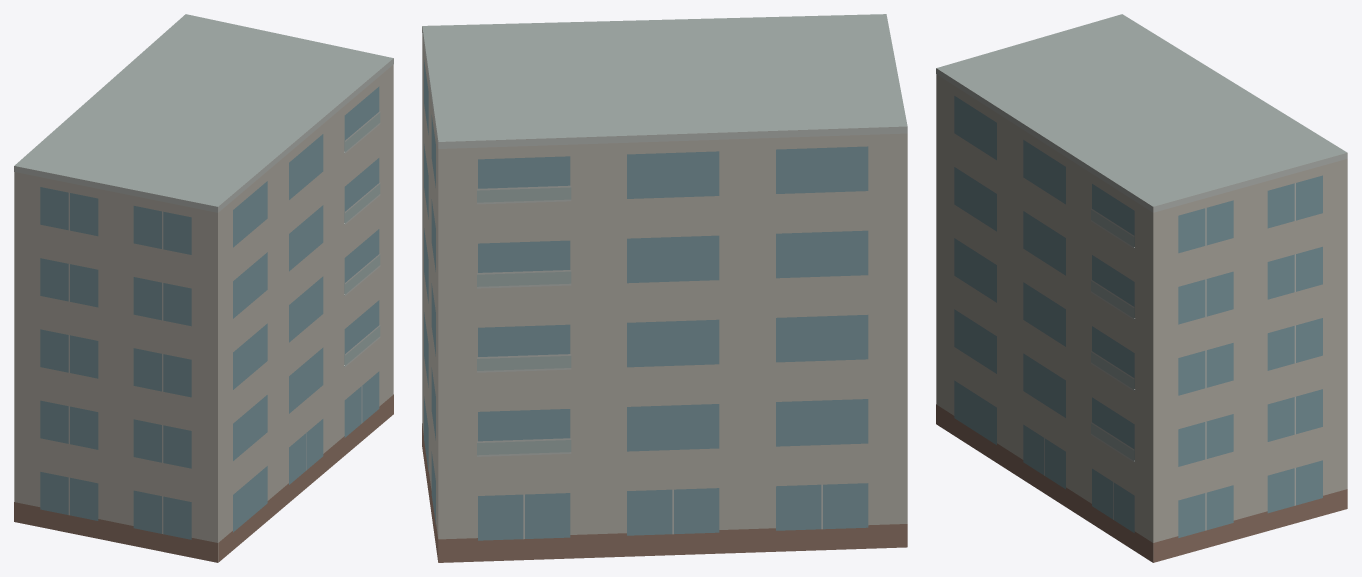
File: survey-upis-32883432.glb
3 renders of one model, left to right at view 1: azimuth 30°, elevation 25°; view 2: azimuth 150°, elevation 25°; view 3: azimuth 270°, elevation 25°, orthographic. The views are drawn at different scales.
Parts seen in each view (by area): view 1: survey-upis-32883432.tmp; view 2: survey-upis-32883432.tmp; view 3: survey-upis-32883432.tmp.
Part boxes in pixels (x1=…): survey-upis-32883432.tmp: x1=14, y1=14, x2=393, y2=562; survey-upis-32883432.tmp: x1=422, y1=14, x2=907, y2=562; survey-upis-32883432.tmp: x1=936, y1=14, x2=1347, y2=562.
Bounding box in the file's own units: 16.85 × 14.5 × 15.2.
